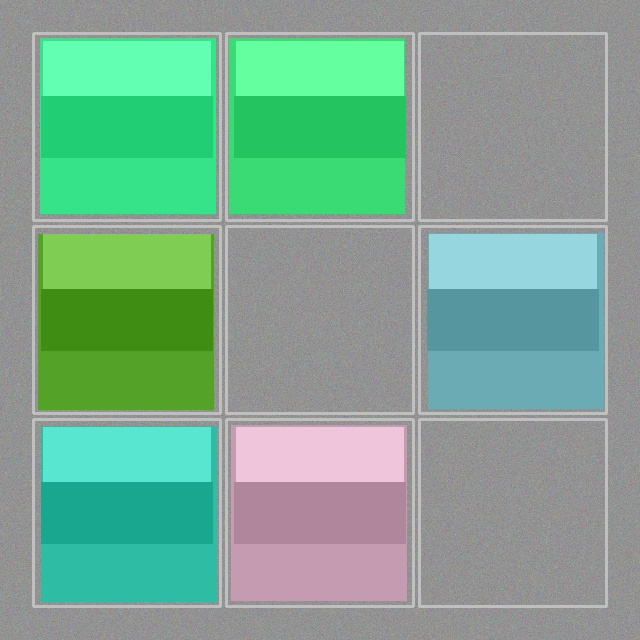space-empty: (421, 35, 604, 218), (228, 228, 411, 411), (421, 421, 604, 604)
space-occupied: (35, 35, 218, 218), (228, 35, 411, 218), (35, 228, 218, 411), (421, 228, 604, 411), (35, 421, 218, 604), (228, 421, 411, 604)
